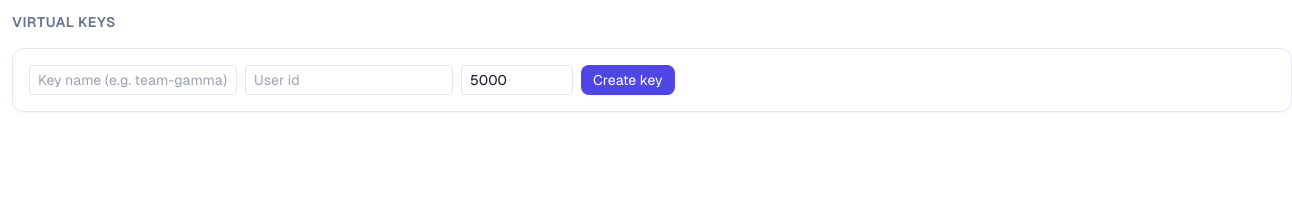
VirtualKeyPane › creates a key and shows it in the list
The image size is (1292, 223).
Type "team-gamma" into the field with placeholder "Key name (e.g. team-gamma)".
click(133, 80); type("team-gamma")  # box [29,65,237,95]
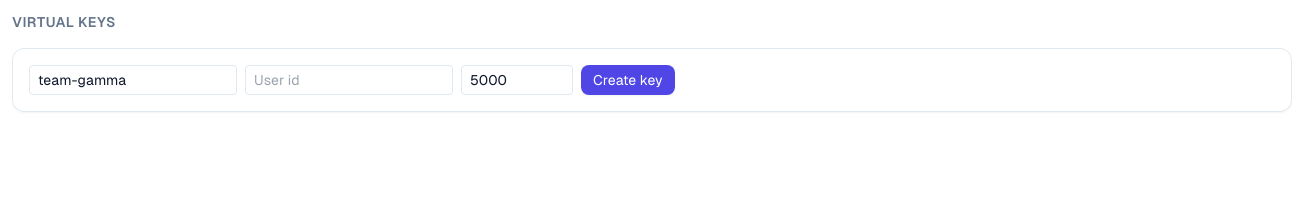
Type "team-gamma" into the field with placeholder "User id".
click(349, 80); type("team-gamma")  # box [245,65,453,95]
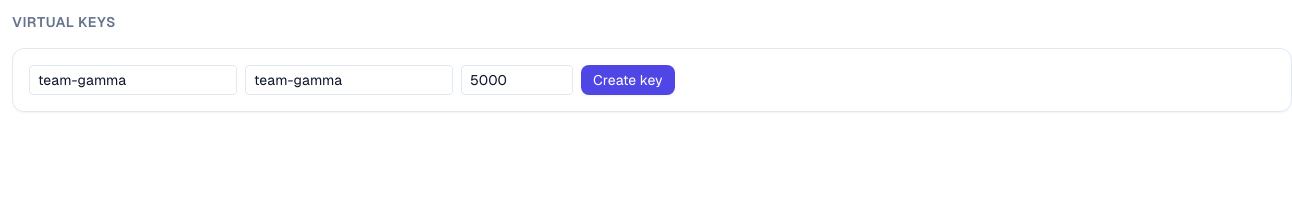
Click the button "Create key".
click(628, 80)  # box [581,65,674,95]
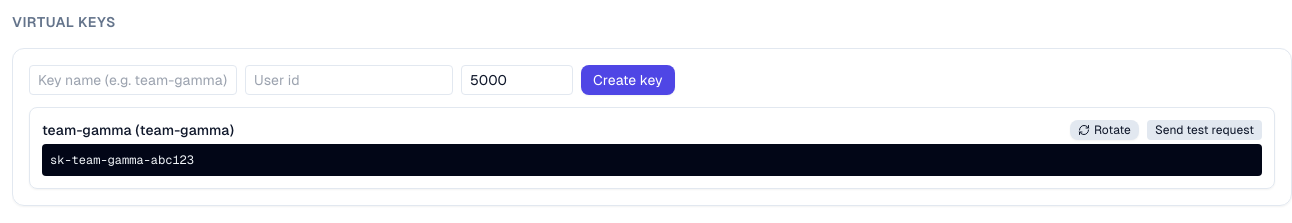
Check: the text "sk-team-gamma-abc123" is shown, box [42,144,1262,176]
